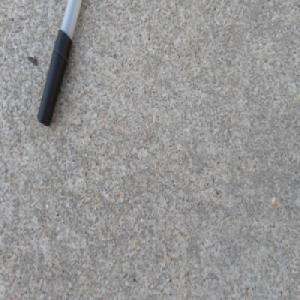Pen: (36, 0, 84, 128)
